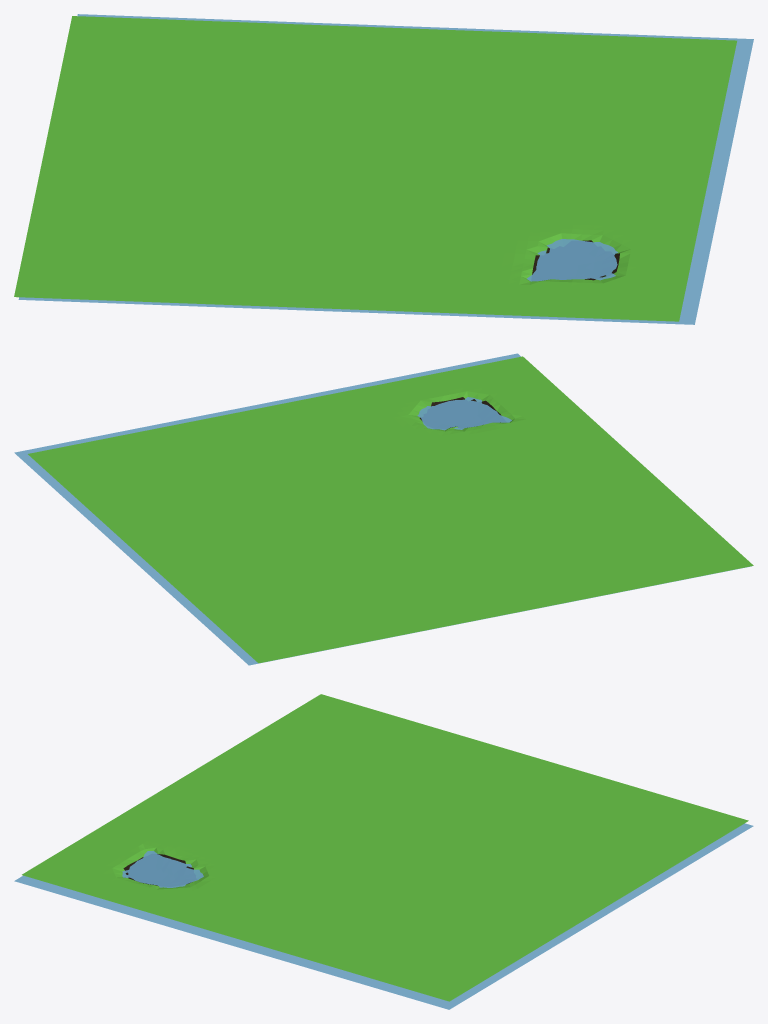
The model's file is terrain.dae.
3 renders of one model, top to bottom at view 1: azimuth 30°, elevation 25°; view 2: azimuth 150°, elevation 25°; view 3: azimuth 270°, elevation 25°, orthographic. The views are drawn at different scales.
Visible parts, largest first — view 1: Plane, Plane_001; view 2: Plane, Plane_001; view 3: Plane, Plane_001.
Part boxes in pixels (left/top/right/bottom): Plane: left=14, top=16, right=736, bottom=321; Plane_001: left=18, top=14, right=753, bottom=324; Plane: left=28, top=356, right=753, bottom=663; Plane_001: left=14, top=353, right=751, bottom=665; Plane: left=22, top=694, right=748, bottom=1001; Plane_001: left=14, top=823, right=753, bottom=1009.
Bounding box in the file's own units: 156 × 156 × 2.59.
